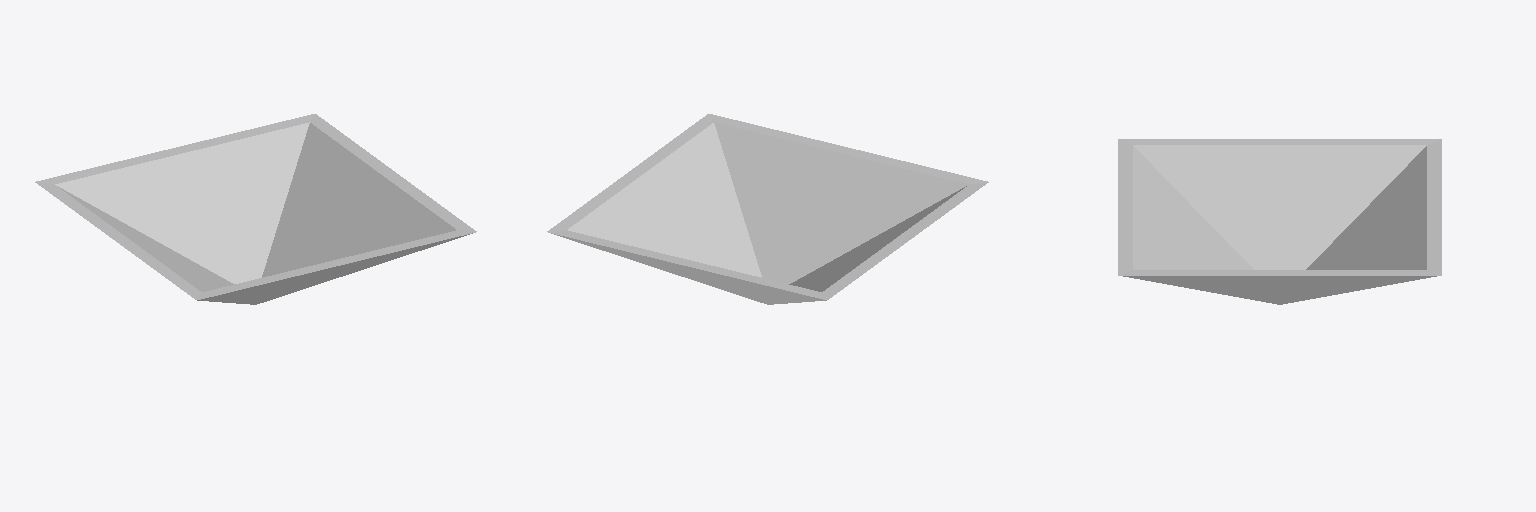
Rendered from floor2b.obj.
The picture shows the model from 3 angles: view 1: azimuth 30°, elevation 25°; view 2: azimuth 150°, elevation 25°; view 3: azimuth 270°, elevation 25°; orthographic projection.
Visible parts, largest first — view 1: Plane.001; view 2: Plane.001; view 3: Plane.001.
Part boxes in pixels (bbox=[...]): Plane.001: bbox=[35, 114, 476, 304]; Plane.001: bbox=[547, 114, 988, 304]; Plane.001: bbox=[1118, 139, 1441, 304].
Size of the model in its own units: 165 by 55 by 165.